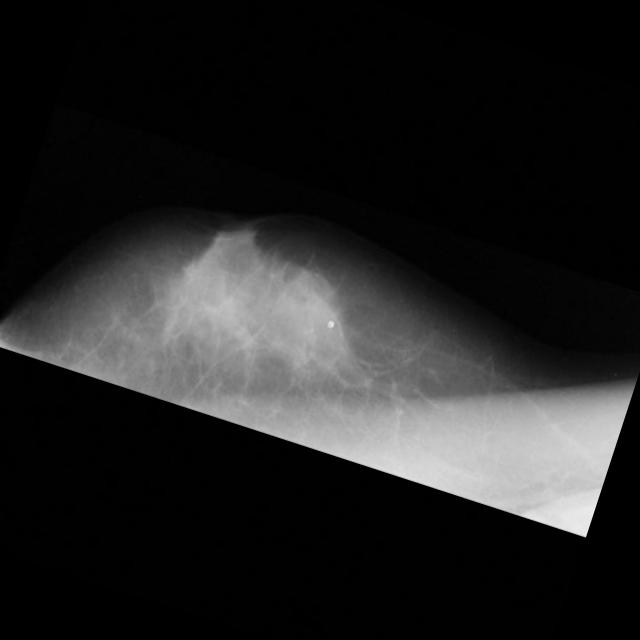CALC: (565, 348, 582, 364)
